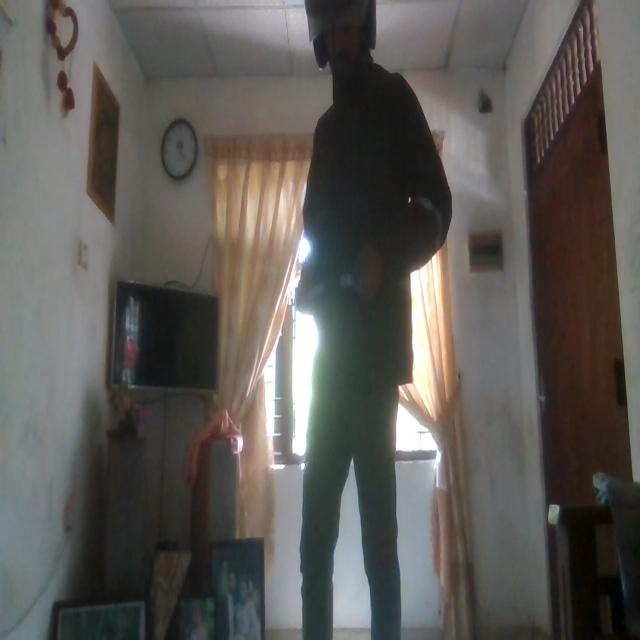Helmet_Wearer: (302, 0, 380, 76)
Jacket_Wearer: (295, 68, 453, 385)
Person: (293, 0, 453, 640)
